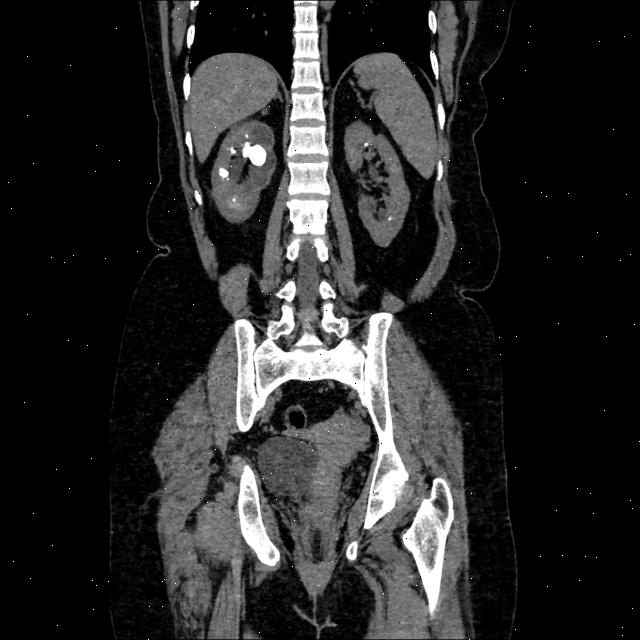kidneystone: (242, 142, 266, 167), (381, 202, 391, 219), (219, 168, 229, 178), (362, 136, 370, 145), (230, 147, 236, 155), (232, 198, 236, 202)
